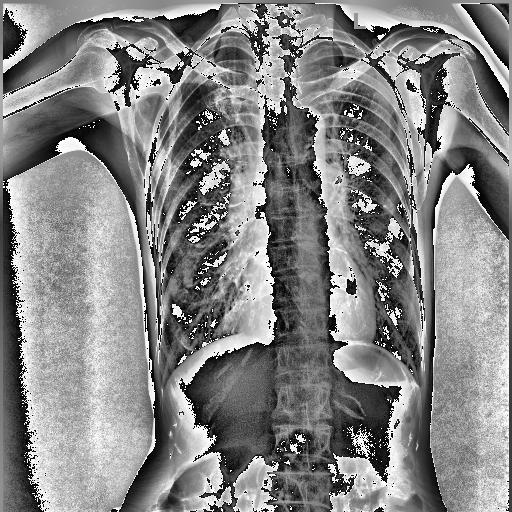13- Pulmonary fibrosis: (178, 336, 200, 352), (199, 199, 242, 207)
2- Calcification: (226, 174, 260, 326), (329, 170, 347, 220), (334, 176, 342, 186)
8- Nodule-Mass: (182, 275, 194, 287)
9- Other lesion: (182, 275, 194, 287)
